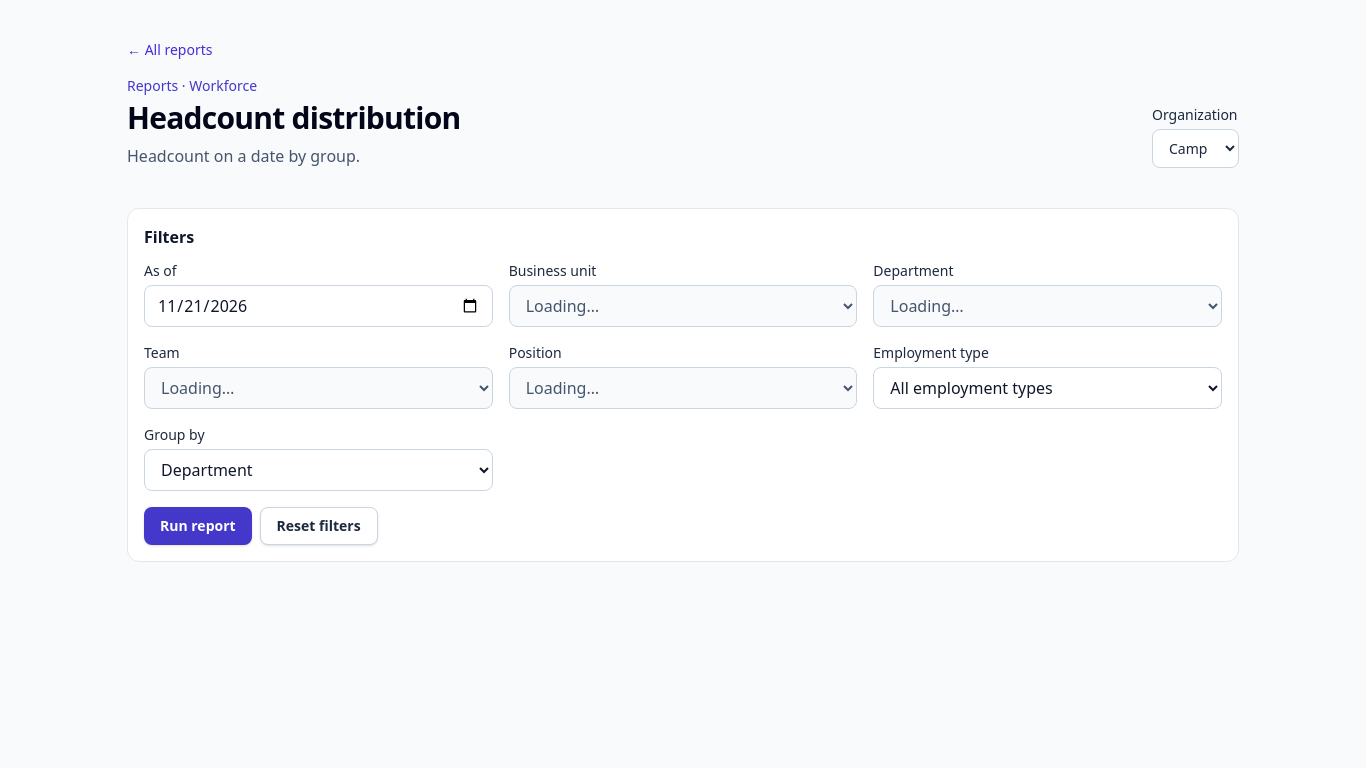
ReportPage › offers exports only when the report can be exported
Expected: the form named "Report filters" is shown, [144,261,1222,545]
Click the button "Run report" at (198, 526), box [144,507,252,545]
(page scrolled)
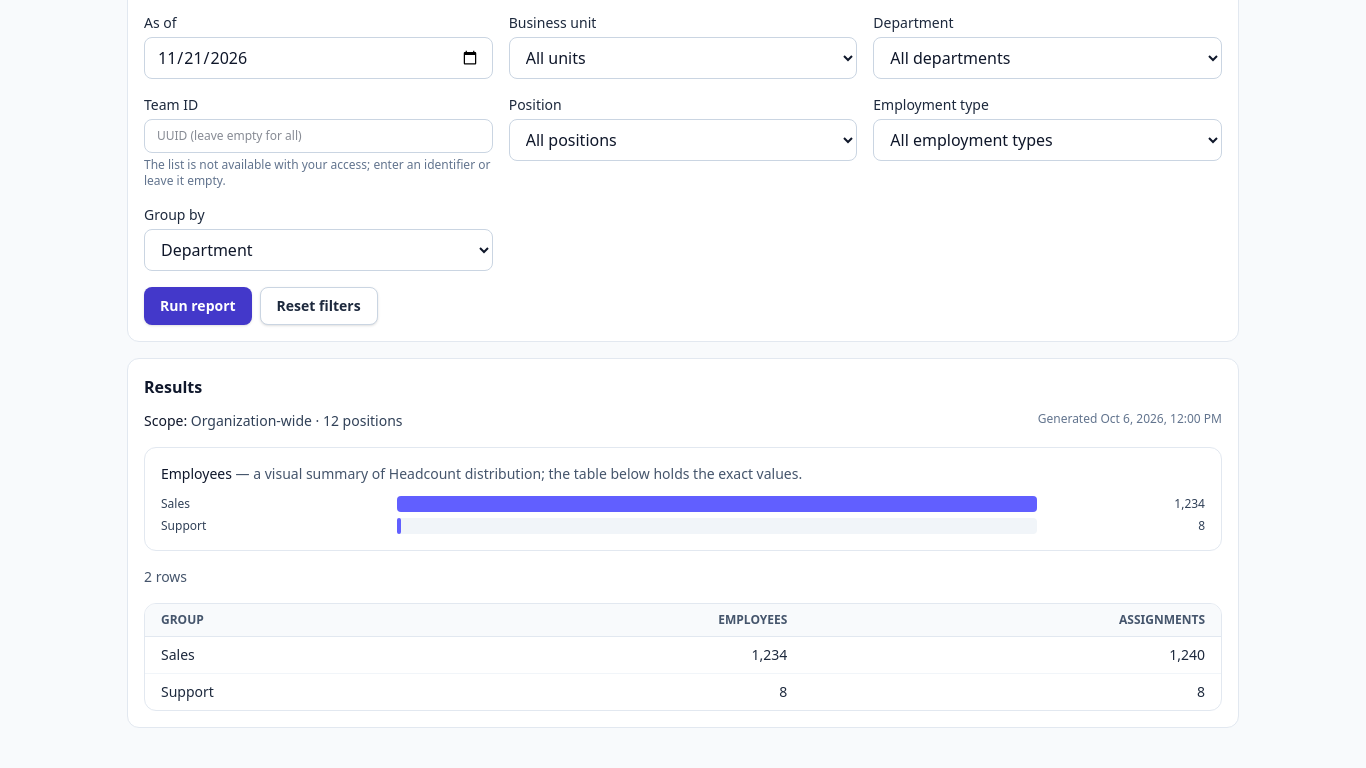
Expected: the table is shown, [145,604,1221,710]
